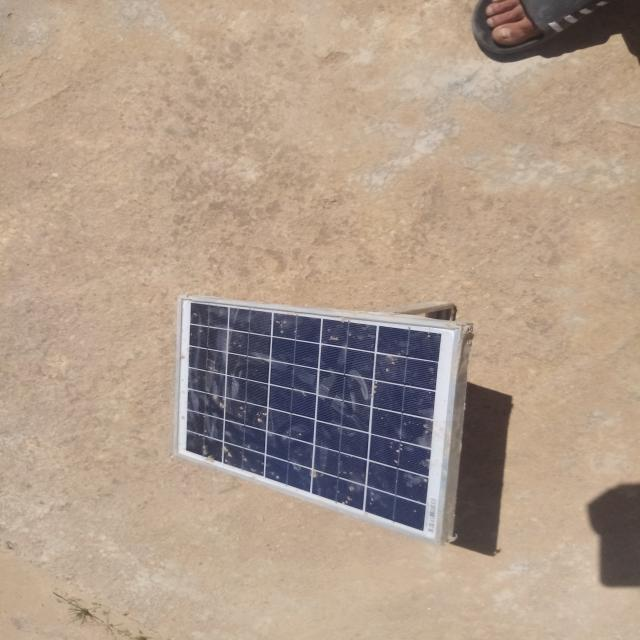faulty: (177, 298, 459, 539)
